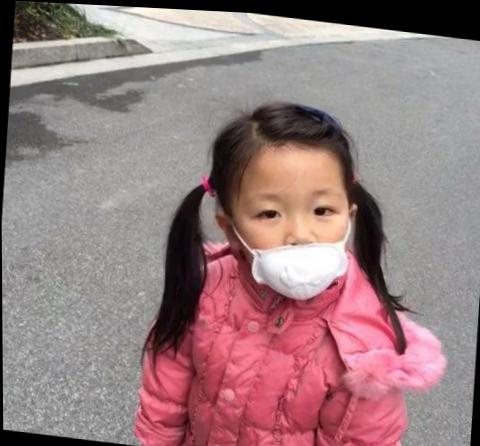WRONG: (229, 171, 356, 302)
